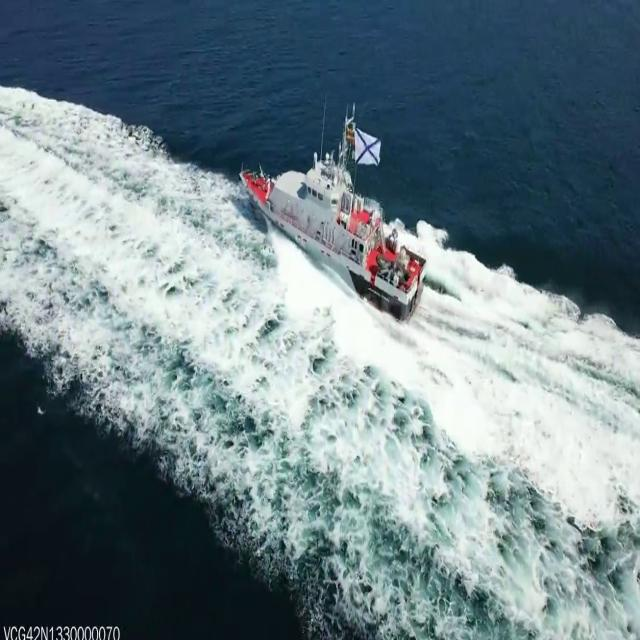houseboat: (242, 136, 430, 318)
